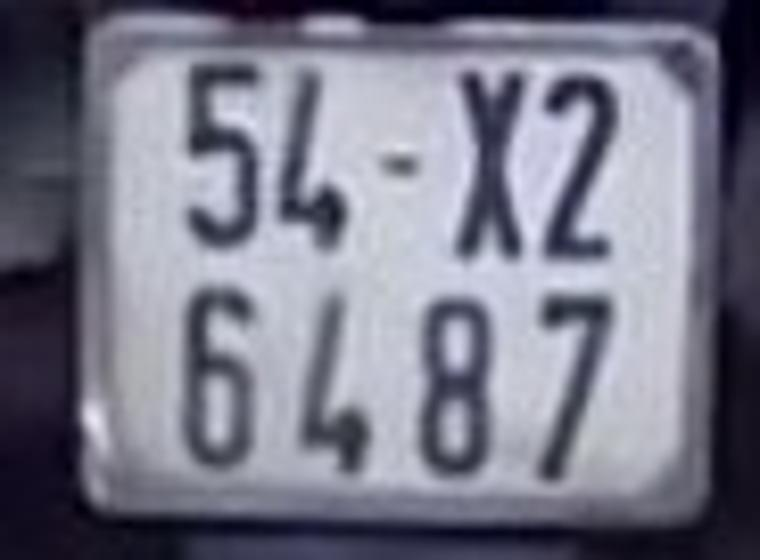-: (378, 144, 433, 188)
2: (543, 65, 624, 268)
4: (300, 294, 382, 486), (282, 69, 351, 258)
5: (182, 58, 264, 248)
6: (179, 279, 265, 478)
7: (530, 289, 614, 483)
8: (417, 296, 494, 487)
X: (452, 59, 537, 270)
